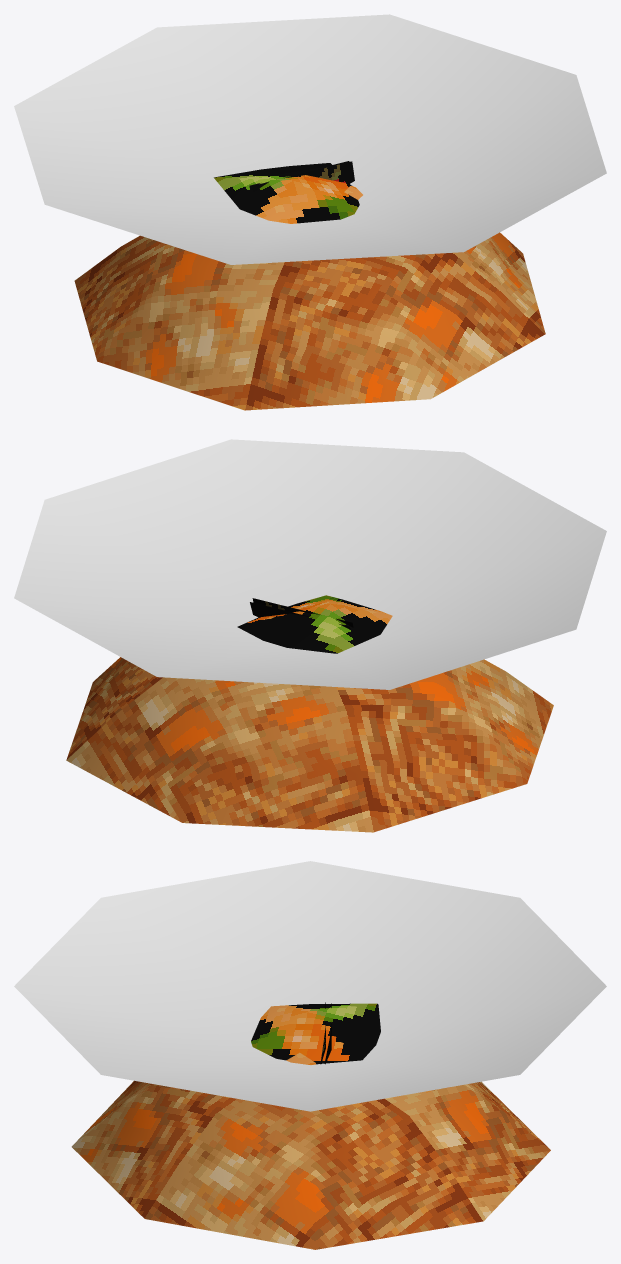
The picture shows the model from 3 angles, top to bottom: view 1: azimuth 30°, elevation 25°; view 2: azimuth 150°, elevation 25°; view 3: azimuth 270°, elevation 25°; orthographic projection. The views are drawn at different scales.
Visible parts, largest first — view 1: 5572u_ktyk00_ss; view 2: 5572u_ktyk00_ss; view 3: 5572u_ktyk00_ss.
Part boxes in pixels (box(x1,y1,x2,y2)): 5572u_ktyk00_ss: box(14, 14, 606, 410); 5572u_ktyk00_ss: box(14, 439, 606, 832); 5572u_ktyk00_ss: box(14, 861, 606, 1249).
Size of the model in its own units: 0.8994 by 0.2715 by 0.8994.
Materials: 5 (5 with a texture image).
